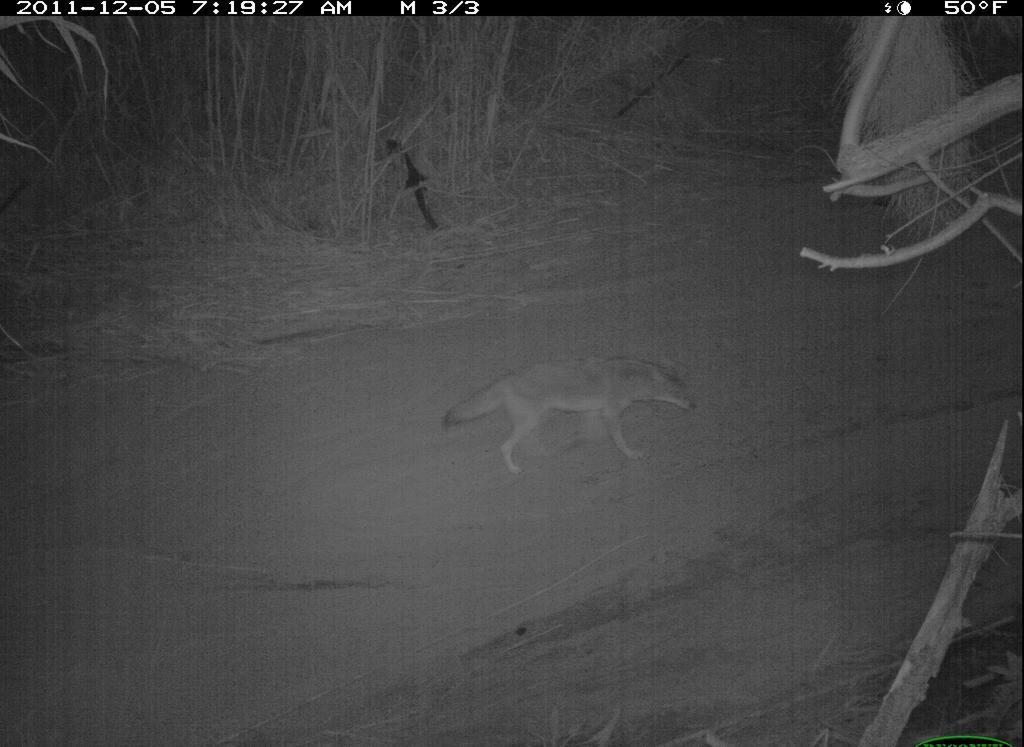coyote: (433, 346, 701, 484)
